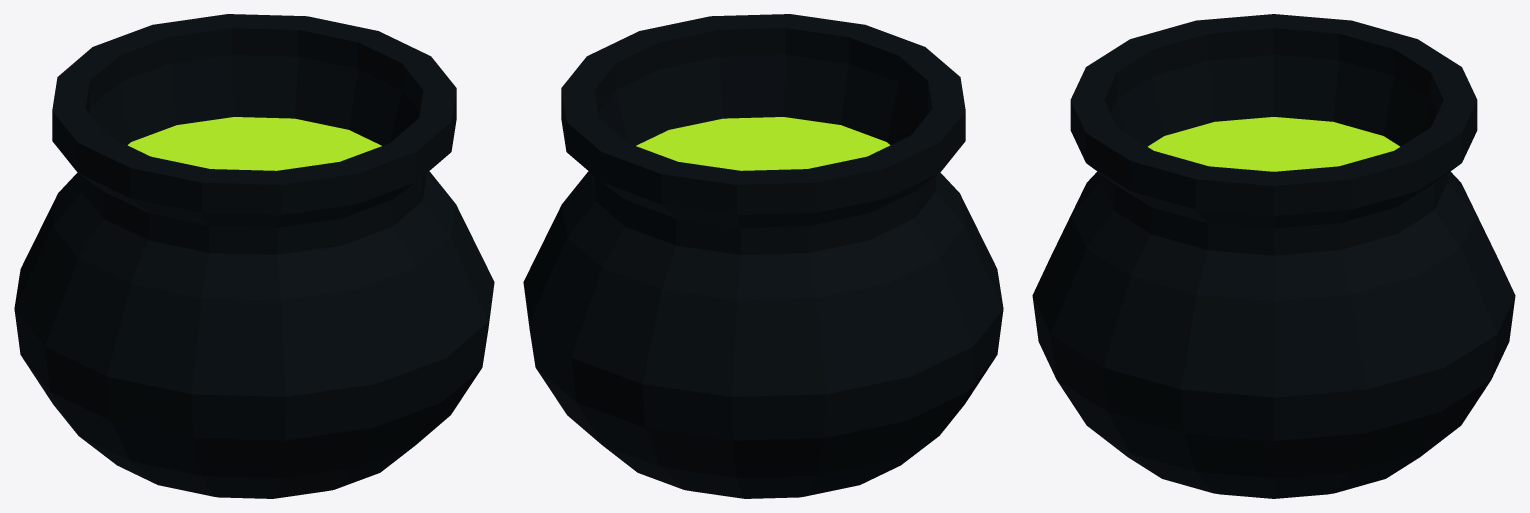
Rendered from Cauldron.fbx.
3 views of the same model, side by side, from view 1: azimuth 30°, elevation 25°; view 2: azimuth 150°, elevation 25°; view 3: azimuth 270°, elevation 25° (orthographic).
Parts seen in each view (by area): view 1: Cauldron; view 2: Cauldron; view 3: Cauldron.
Boxes of the visible parts, x1,y1,x2,y2 form: Cauldron: [14, 14, 494, 498]; Cauldron: [523, 14, 1003, 498]; Cauldron: [1032, 14, 1515, 498].
Size of the model in its own units: 197 by 153 by 197.
